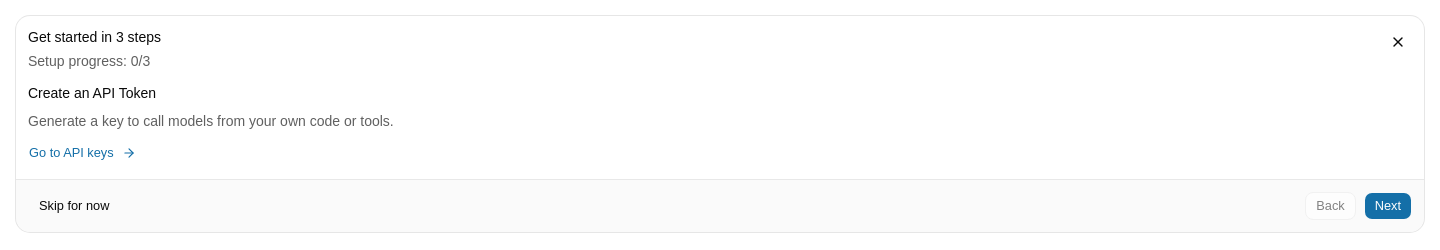
onboarding guide (B2-3) › walks through the three first-run steps with Next
The image size is (1440, 250).
Expected: the heading "Create an API Token" is shown, [28,85,156,101]
Expected: the text "Setup progress: 0/3" is shown, [28,53,150,69]
Click the button "Next": [1388, 206] box [1364,192,1412,220]
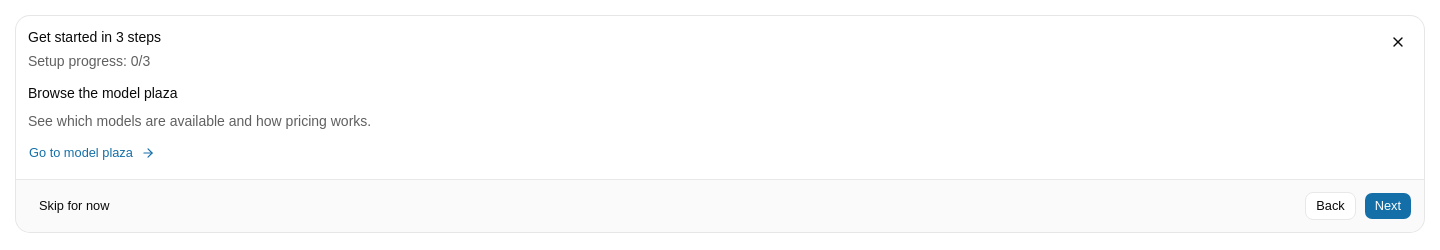
Expected: the text "Setup progress: 0/3" is shown, [28,53,150,69]
Expected: the heading "Browse the model plaza" is shown, [28,85,177,101]
Click the button "Next": [1388, 206] box [1364,192,1412,220]
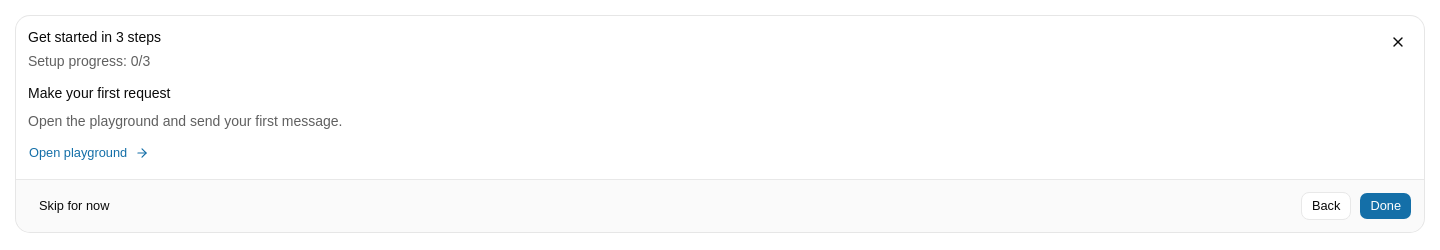
Expected: the text "Setup progress: 0/3" is shown, [28,53,150,69]
Expected: the heading "Make your first request" is shown, [28,85,170,101]
